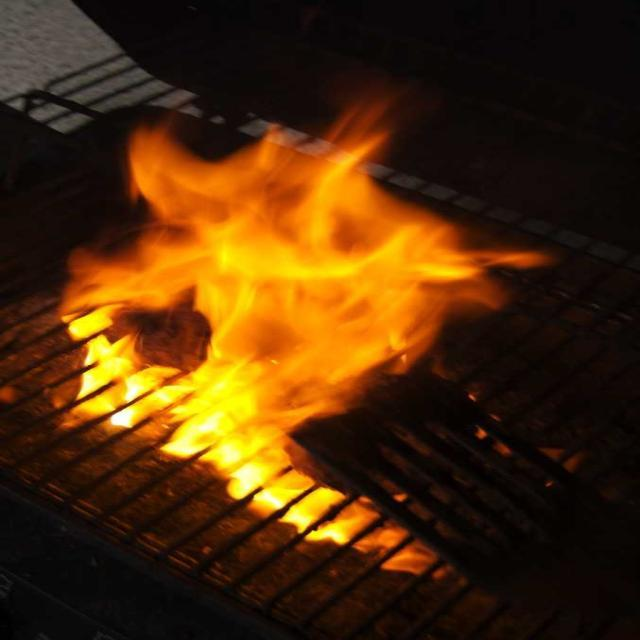Fire: (130, 150, 378, 416)
